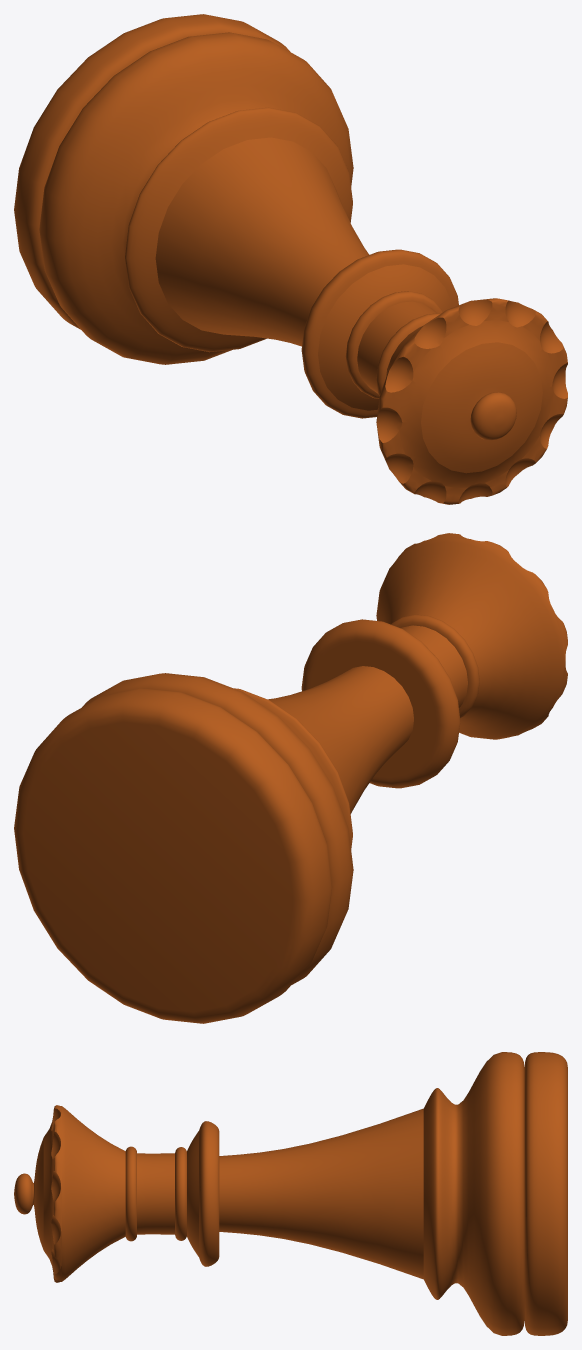
The model's file is queen.obj.
3 views of the same model, one above another, from view 1: azimuth 30°, elevation 25°; view 2: azimuth 150°, elevation 25°; view 3: azimuth 270°, elevation 25° (orthographic). The views are drawn at different scales.
Parts seen in each view (by area): view 1: ferz_; view 2: ferz_; view 3: ferz_.
Part boxes in pixels (<box>): ferz_: <box>14,14,567,504</box>; ferz_: <box>14,533,567,1023</box>; ferz_: <box>14,1052,567,1335</box>.
Bounding box in the file's own units: 44.92 × 44.92 × 87.35.
